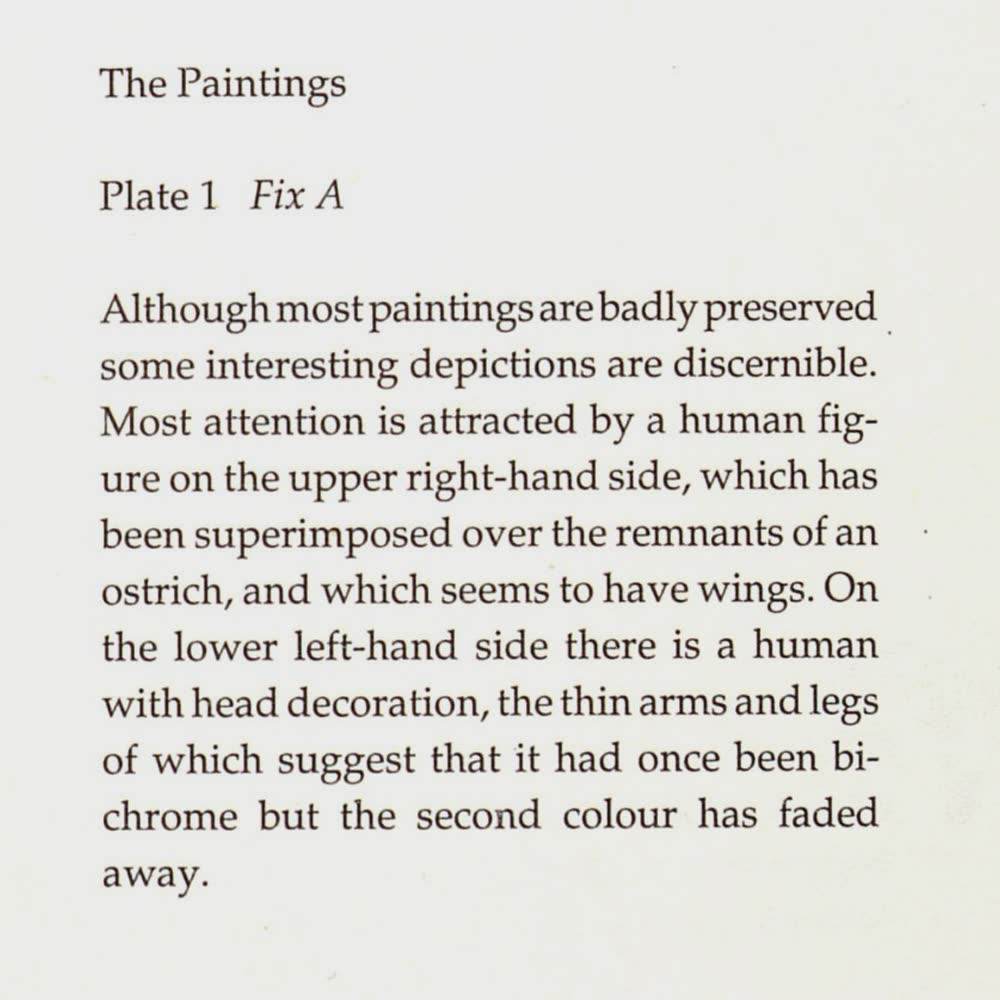text: (93, 65, 906, 901)
